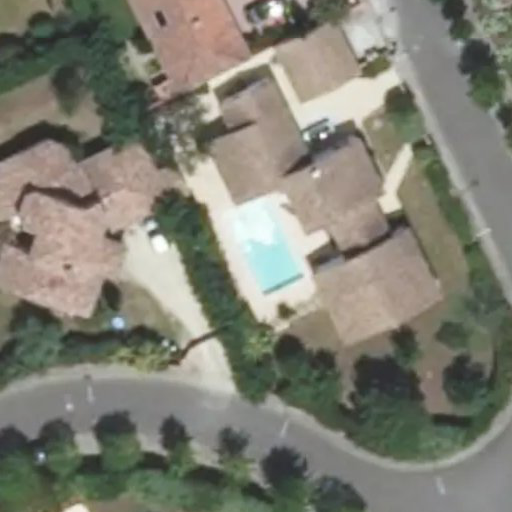pool: (214, 209, 297, 274)
